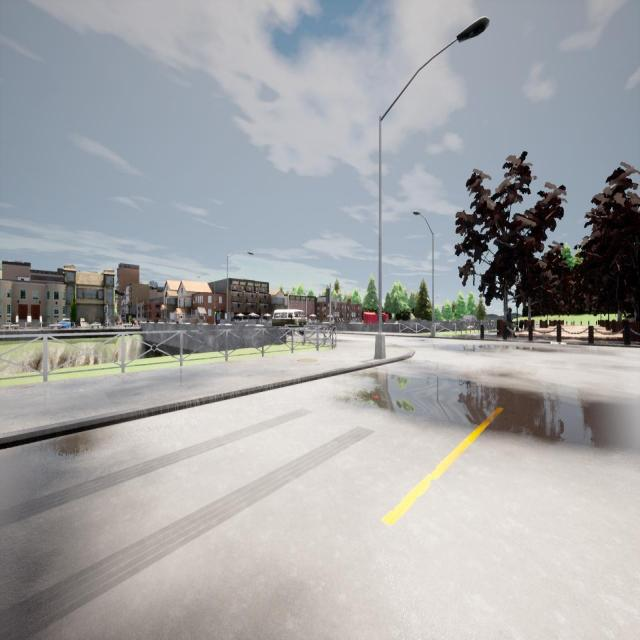Pedestrian: (507, 306, 517, 338)
Vehicle: (272, 309, 308, 327), (57, 319, 75, 329)
traffic_light: (326, 288, 330, 304), (104, 306, 107, 313), (214, 308, 216, 315)
